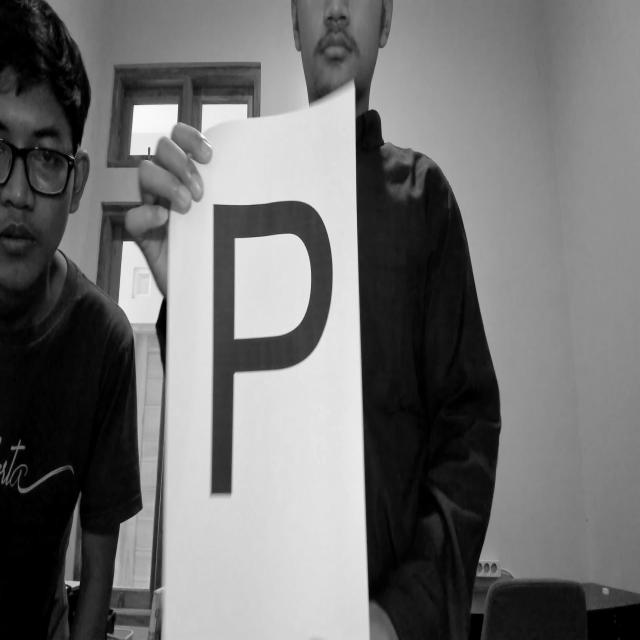p: (197, 185, 348, 545)
